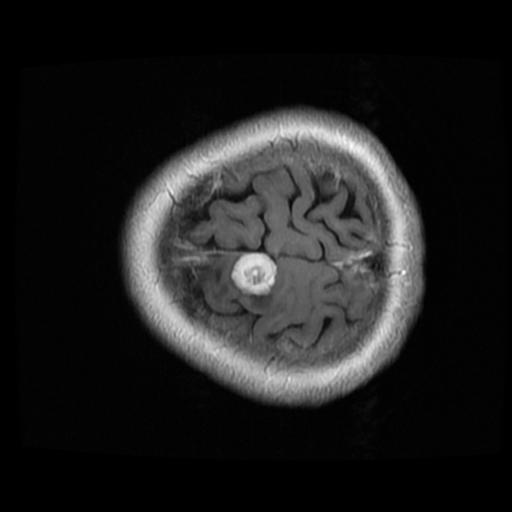meningioma: (230, 252, 277, 296)
